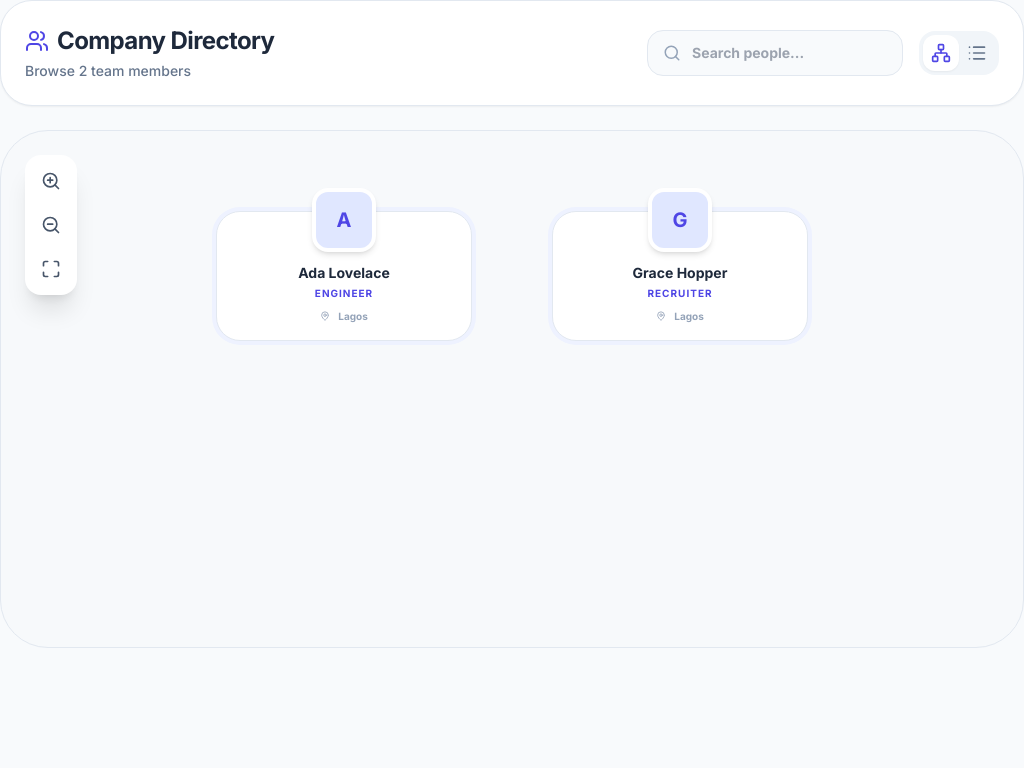
Directory › List view › filters by name, role, or department, case-insensitively
The width and height of the screenshot is (1024, 768).
Click the 2nd button at (977, 53), box x1=959 y1=35 x2=995 y2=71
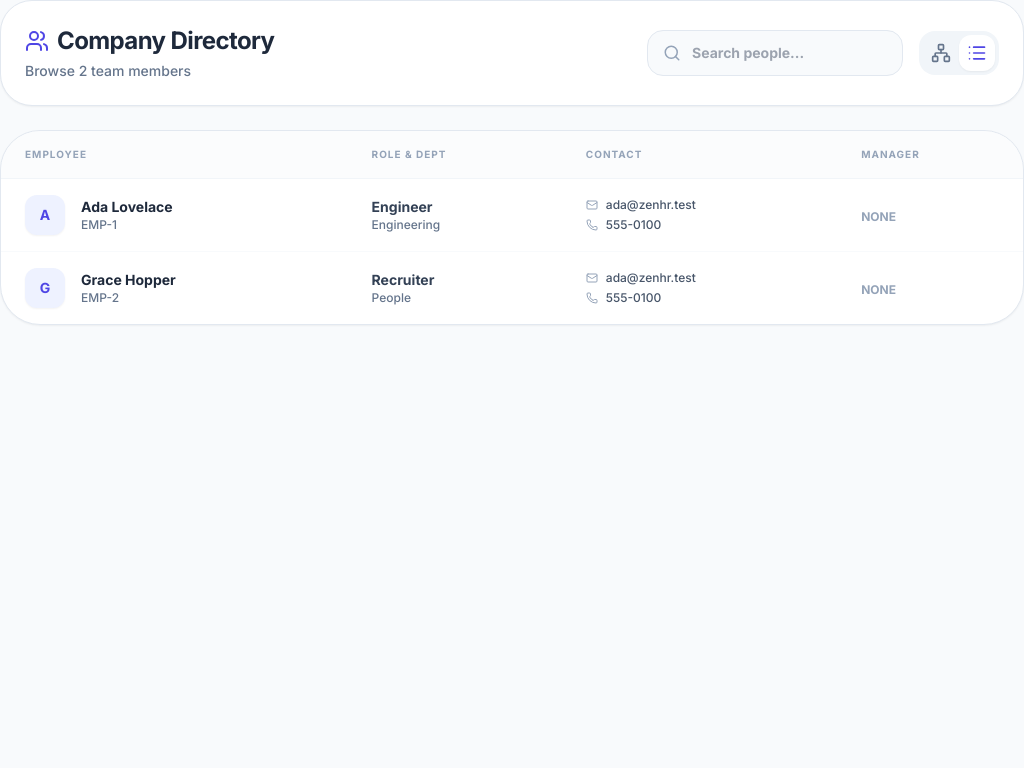
Type "people" into the field with placeholder "Search people..." at (775, 53), box x1=647 y1=30 x2=903 y2=76
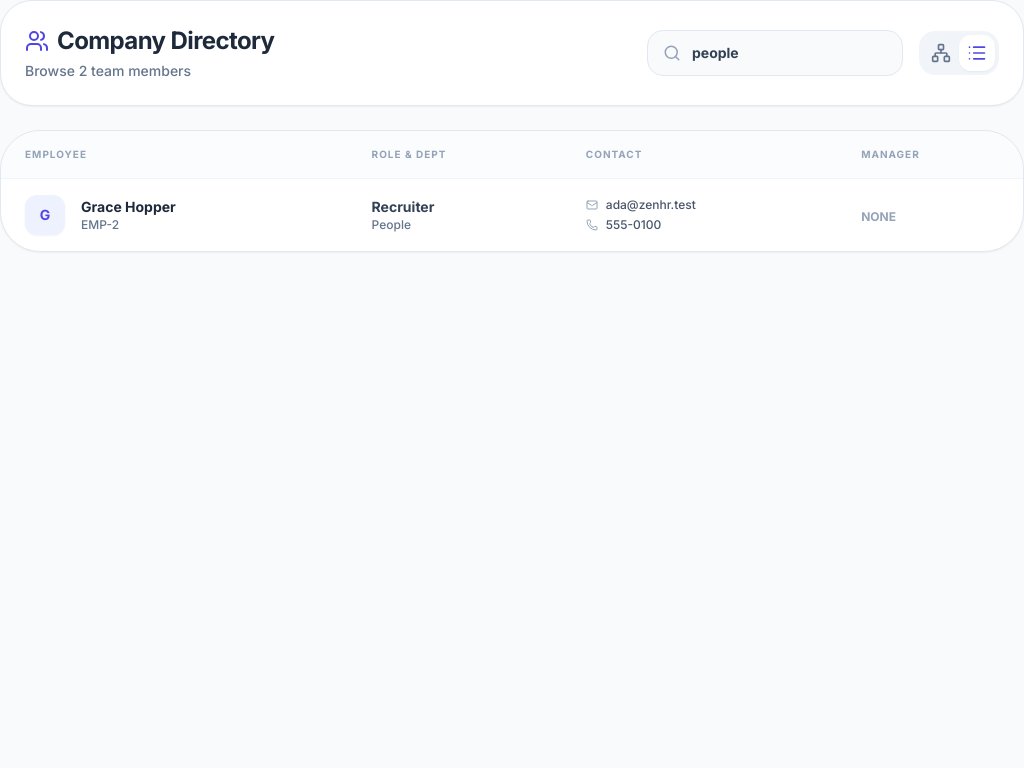
Expected: the text "Grace Hopper" is shown, x1=81 y1=197 x2=176 y2=217
Result: the text "Ada Lovelace" is gone
